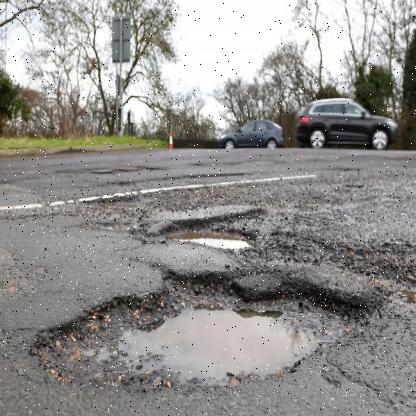pothole_water: (17, 250, 387, 402), (154, 199, 274, 254)
